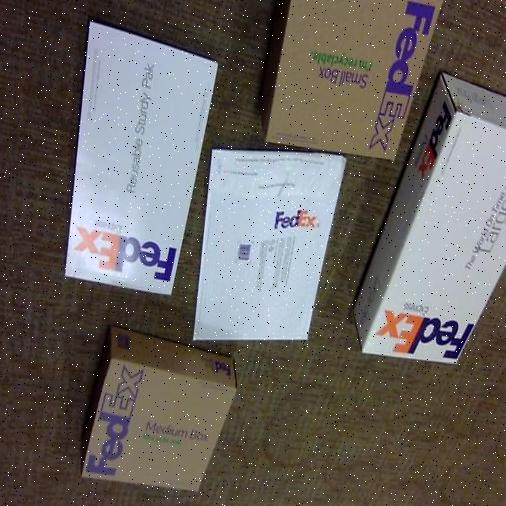Amazon: (43, 22, 225, 296), (352, 85, 504, 360), (198, 153, 347, 345), (275, 0, 447, 155), (67, 341, 241, 494)
